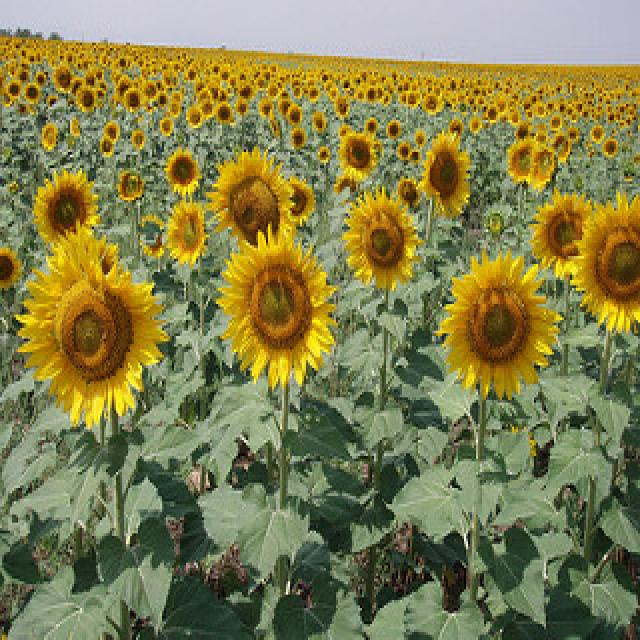sunflower: (15, 230, 167, 422), (212, 225, 338, 391), (441, 245, 565, 395), (568, 176, 640, 339), (334, 184, 426, 296), (206, 149, 296, 248), (527, 185, 601, 276), (29, 168, 99, 251), (415, 122, 475, 218), (166, 200, 208, 272), (163, 148, 205, 199), (282, 173, 318, 230), (337, 132, 379, 180), (497, 137, 539, 183), (114, 160, 148, 208), (136, 210, 168, 258), (0, 242, 24, 298), (527, 143, 553, 193), (99, 114, 123, 162), (74, 78, 100, 118), (37, 120, 63, 157), (551, 131, 577, 165), (181, 99, 207, 133), (53, 64, 79, 96), (121, 85, 145, 115), (5, 76, 29, 105), (309, 107, 333, 136), (285, 98, 305, 130), (598, 133, 620, 160), (214, 100, 234, 127), (423, 91, 441, 120), (157, 116, 177, 140), (585, 122, 605, 146), (394, 139, 412, 165), (255, 95, 275, 118), (130, 126, 148, 150), (290, 130, 308, 154), (485, 102, 503, 125), (25, 83, 41, 104), (364, 116, 378, 140), (386, 119, 400, 140), (364, 85, 378, 104)
